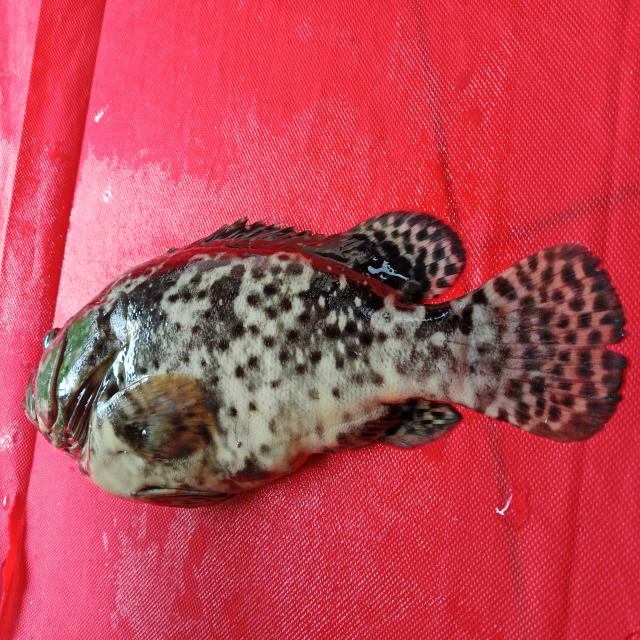ikan: (18, 208, 630, 518)
